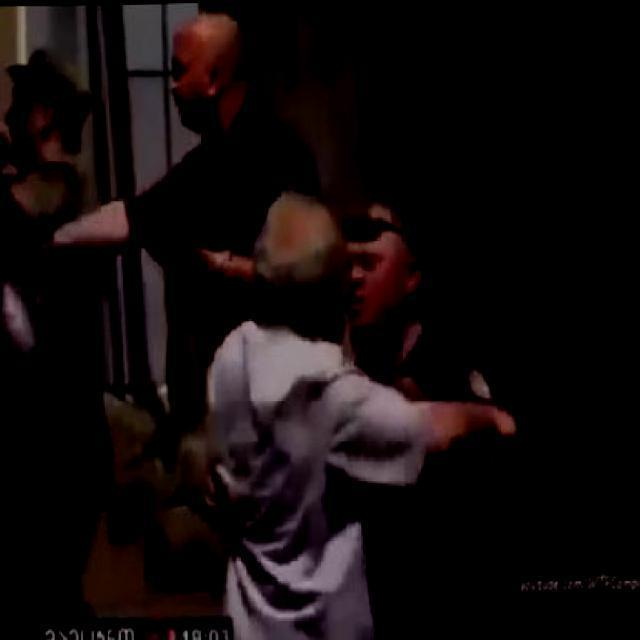fight: (208, 187, 512, 564)
